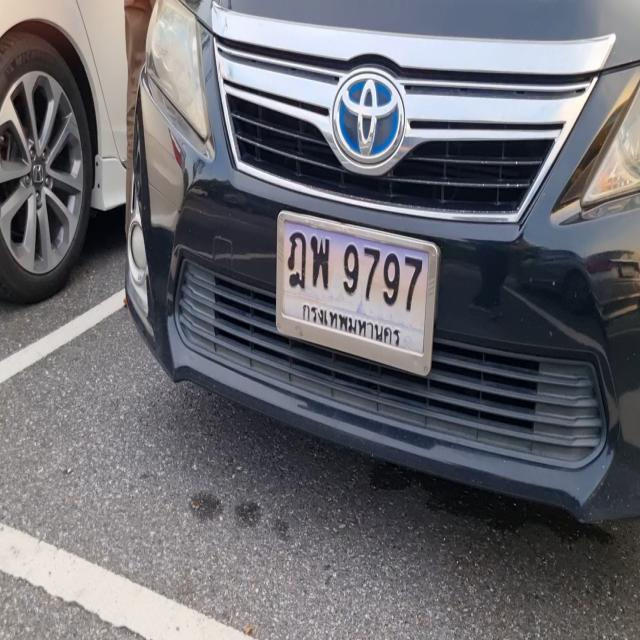license_plate: (276, 203, 438, 385)
